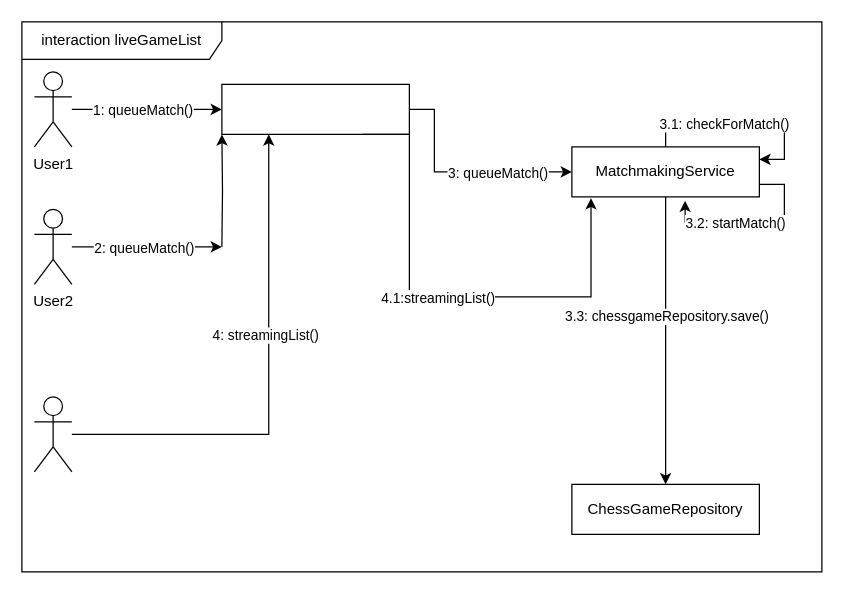
Image size: 844x594. Some labels were removed from this diagram. The shapes that lost their labels are listed below. From the top down, each one's centre as x and y in pixels, then its label:
At point 315,108: "MatchmakingController".
At point 52,434: "Actor".
